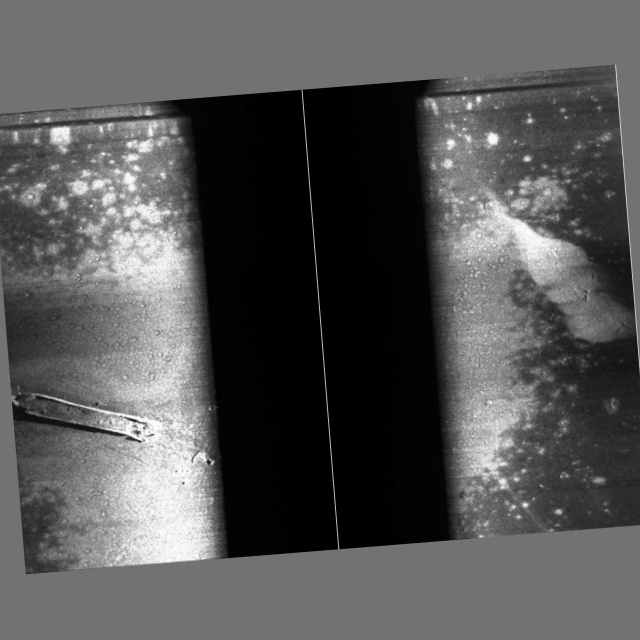Shipwreck: (10, 369, 216, 498)
